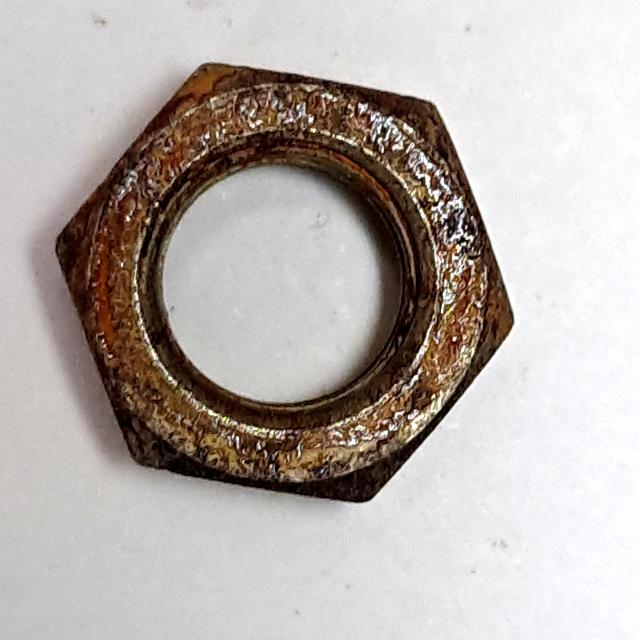Rust: (44, 51, 530, 519)
